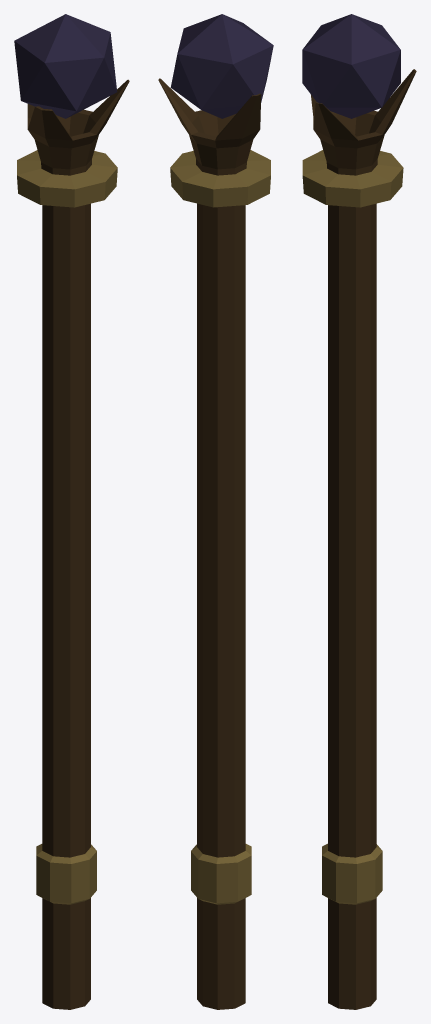
The model's file is rose-wand.glb.
3 renders of one model, left to right at view 1: azimuth 30°, elevation 25°; view 2: azimuth 210°, elevation 25°; view 3: azimuth 270°, elevation 25°, orthographic.
Visible parts, largest first — view 1: 1H - Rose Wand - Snowden; view 2: 1H - Rose Wand - Snowden; view 3: 1H - Rose Wand - Snowden.
Boxes of the visible parts, box(x1,y1,x2,y2) form: 1H - Rose Wand - Snowden: box(14, 14, 129, 1009); 1H - Rose Wand - Snowden: box(158, 14, 273, 1009); 1H - Rose Wand - Snowden: box(302, 14, 416, 1009).
Bounding box in the file's own units: 0.0728 × 0.7386 × 0.0777.
